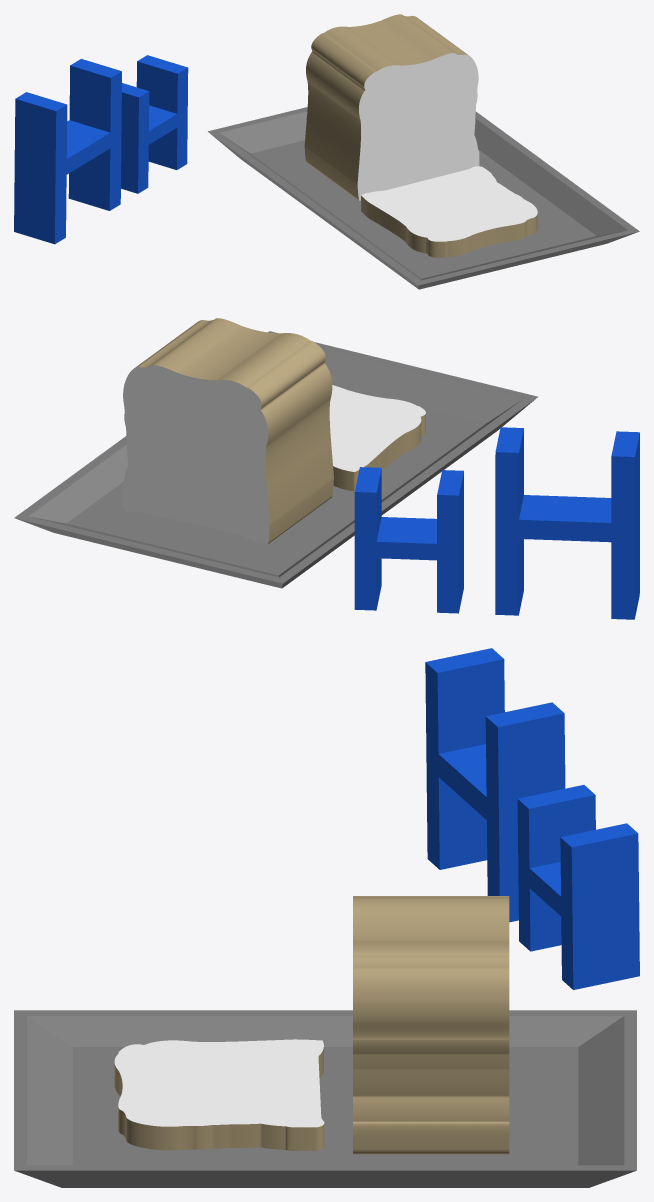
3 views of the same model, one above another, from view 1: azimuth 30°, elevation 25°; view 2: azimuth 150°, elevation 25°; view 3: azimuth 270°, elevation 25° (orthographic). The views are drawn at different scales.
Parts seen in each view (by area): view 1: Mesh_0.017, Group_001, Component#3_001, Component#3_007, Component#3_004, Component#3_003, Component#3_005, Component#3_002, Component#3_006; view 2: Group_001, Mesh_0.017, Component#3_006, Component#3_007, Component#3_003, Component#3_005, Component#3_004, Component#3_001, Component#3_002; view 3: Group_001, Mesh_0.017, Component#3_007, Component#3_006, Component#3_005, Component#3_004, Component#3_003, Component#3_002, Component#3_001.
Part boxes in pixels (x1=…): Mesh_0.017: x1=14, y1=55, x2=188, y2=244; Group_001: x1=208, y1=107, x2=639, y2=289; Component#3_001: x1=348, y1=46, x2=479, y2=200; Component#3_007: x1=361, y1=166, x2=537, y2=257; Component#3_004: x1=322, y1=27, x2=441, y2=181; Component#3_003: x1=331, y1=33, x2=450, y2=187; Component#3_005: x1=313, y1=20, x2=432, y2=174; Component#3_002: x1=340, y1=40, x2=459, y2=193; Component#3_006: x1=304, y1=14, x2=423, y2=168; Group_001: x1=14, y1=331, x2=537, y2=588; Mesh_0.017: x1=354, y1=427, x2=639, y2=619; Component#3_006: x1=122, y1=357, x2=280, y2=544; Component#3_007: x1=329, y1=385, x2=425, y2=491; Component#3_003: x1=167, y1=334, x2=312, y2=520; Component#3_005: x1=146, y1=349, x2=291, y2=535; Component#3_004: x1=157, y1=341, x2=301, y2=528; Component#3_001: x1=188, y1=318, x2=333, y2=504; Component#3_002: x1=178, y1=326, x2=323, y2=512; Group_001: x1=14, y1=1010, x2=636, y2=1187; Mesh_0.017: x1=425, y1=648, x2=639, y2=989; Component#3_007: x1=114, y1=1039, x2=324, y2=1150; Component#3_006: x1=483, y1=896, x2=509, y2=1154; Component#3_005: x1=457, y1=896, x2=483, y2=1154; Component#3_004: x1=431, y1=896, x2=457, y2=1154; Component#3_003: x1=405, y1=896, x2=431, y2=1154; Component#3_002: x1=379, y1=896, x2=404, y2=1154; Component#3_001: x1=353, y1=896, x2=378, y2=1154.
Size of the model in its own units: 53.27 by 16.18 by 42.12.
